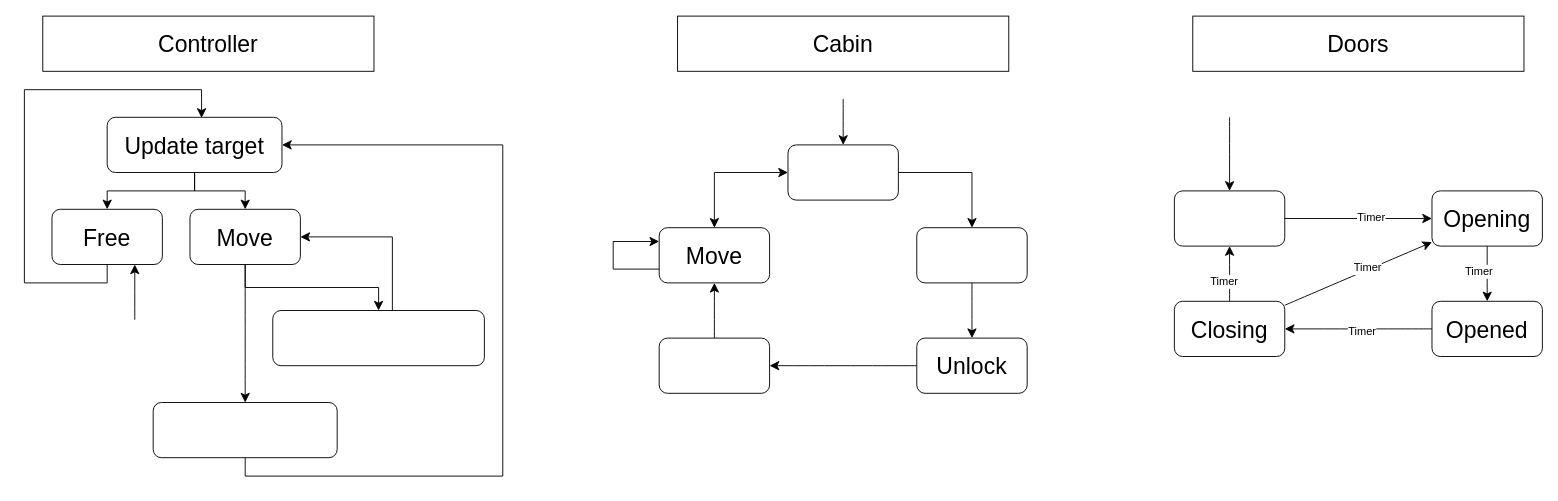
Image size: 1558x501. Some labels were removed from this diagram. Each missing label, with the centre of its shape:
"Closed" goes at [1229,218].
"Intermediate target" goes at [378,338].
"Lock" goes at [971,255].
"Prepare" goes at [714,365].
"Reached target" goes at [244,430].
"Stop" goes at [842,172].
